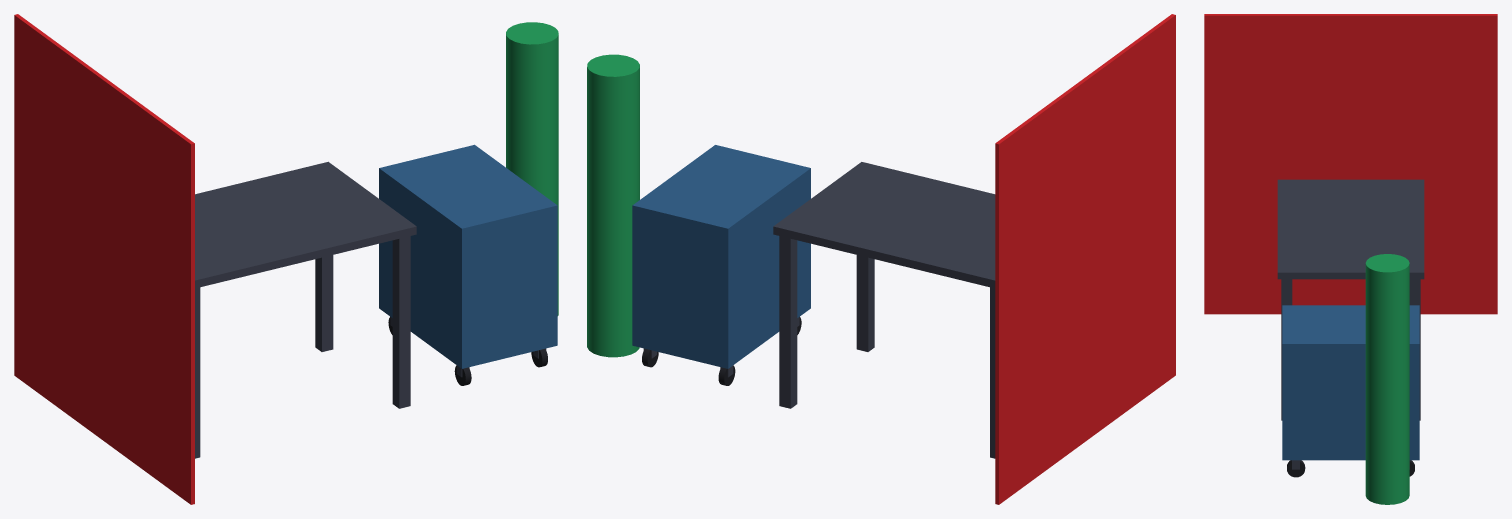
Rendered from ind-018.glb.
3 renders of one model, left to right at view 1: azimuth 30°, elevation 25°; view 2: azimuth 150°, elevation 25°; view 3: azimuth 270°, elevation 25°, orthographic. The views are drawn at different scales.
Visible parts, largest first — view 1: accent_red, machine_blue, dark_steel, safety_green; view 2: accent_red, machine_blue, dark_steel, safety_green; view 3: accent_red, dark_steel, machine_blue, safety_green.
Boxes of the visible parts, box(x1,y1,x2,y2) form: accent_red: box(14, 14, 194, 504); machine_blue: box(379, 144, 557, 368); dark_steel: box(195, 161, 546, 458); safety_green: box(506, 22, 558, 315); accent_red: box(995, 14, 1175, 504); machine_blue: box(632, 145, 810, 368); dark_steel: box(643, 162, 995, 458); safety_green: box(587, 54, 639, 357); accent_red: box(1204, 14, 1497, 314); dark_steel: box(1277, 179, 1424, 469); machine_blue: box(1282, 305, 1419, 460); safety_green: box(1365, 254, 1409, 504).
Bounding box in the file's own units: 2.48 × 1.8 × 1.6.
